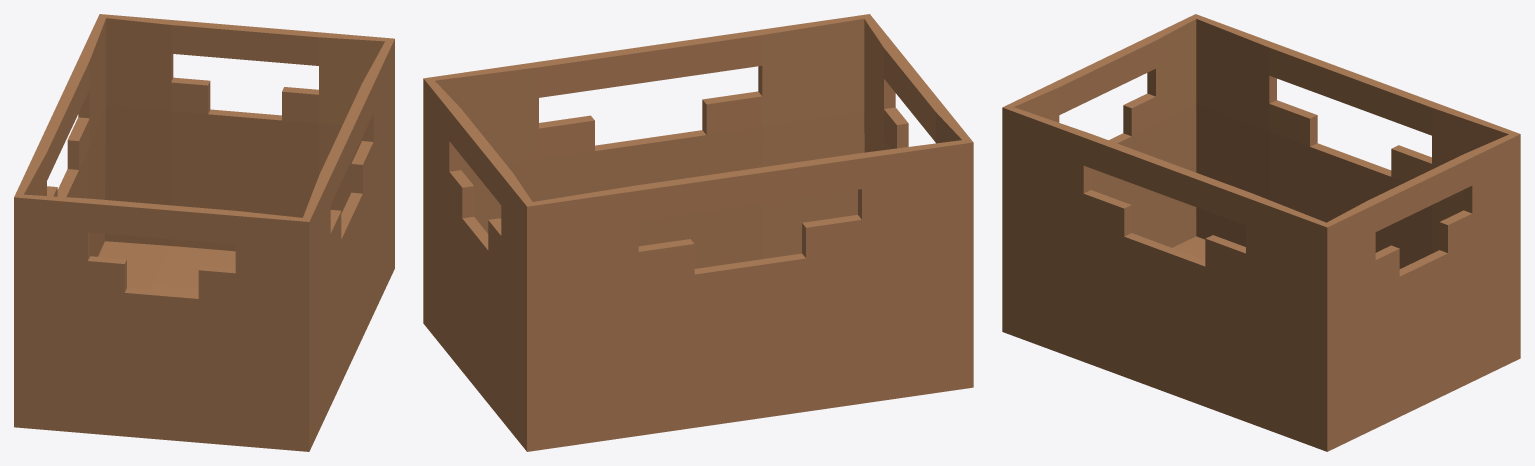
File: Cassa.fbx
3 views of the same model, side by side, from view 1: azimuth 30°, elevation 25°; view 2: azimuth 150°, elevation 25°; view 3: azimuth 270°, elevation 25° (orthographic). The views are drawn at different scales.
Visible parts, largest first — view 1: Chest 2.001; view 2: Chest 2.001; view 3: Chest 2.001.
Part boxes in pixels (bbox=[...]): Chest 2.001: bbox=[14, 14, 394, 451]; Chest 2.001: bbox=[423, 14, 973, 451]; Chest 2.001: bbox=[1002, 14, 1520, 451].
Size of the model in its own units: 176 by 86.44 by 181.
